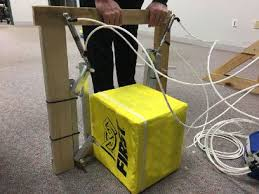cube: (88, 83, 189, 194)
